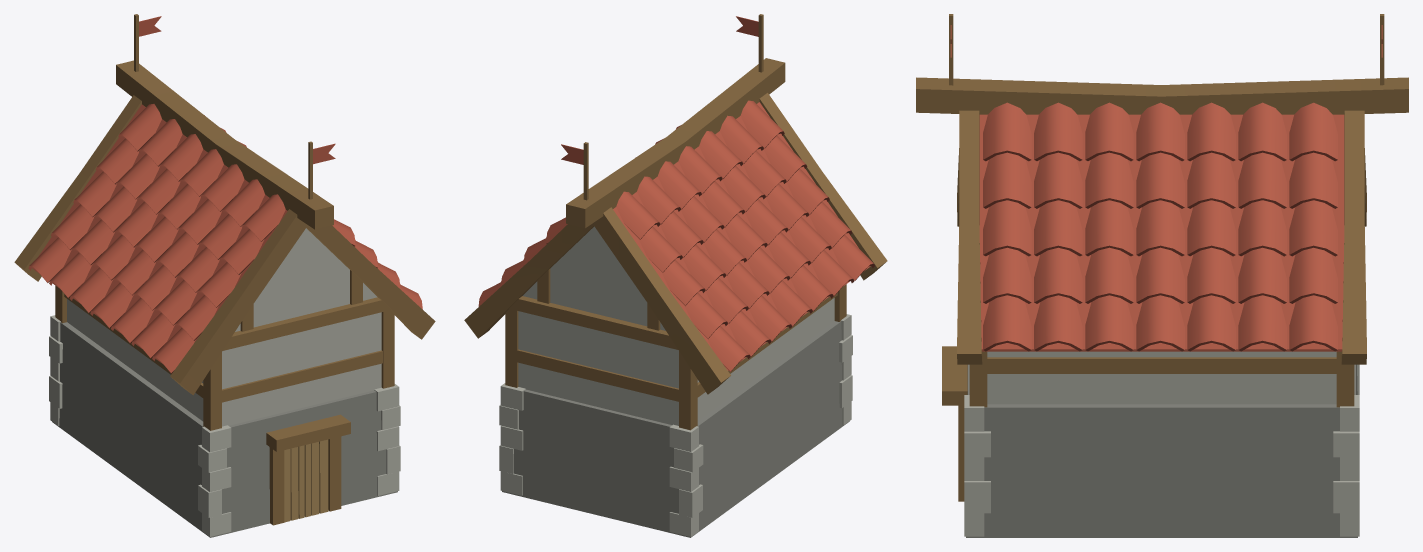
File: House-vZ1CLbWmSx.glb
3 views of the same model, side by side, from view 1: azimuth 30°, elevation 25°; view 2: azimuth 150°, elevation 25°; view 3: azimuth 270°, elevation 25° (orthographic). The views are drawn at different scales.
Parts seen in each view (by area): view 1: Houses_SecondAge_1_Level3; view 2: Houses_SecondAge_1_Level3; view 3: Houses_SecondAge_1_Level3.
Boxes of the visible parts, <box> form: Houses_SecondAge_1_Level3: <box>14,14,435,537</box>; Houses_SecondAge_1_Level3: <box>464,14,887,537</box>; Houses_SecondAge_1_Level3: <box>916,14,1408,537</box>.
Size of the model in its own units: 0.89 by 1.23 by 1.17.
